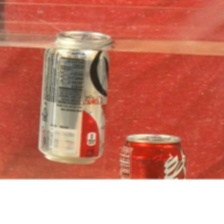can: (26, 26, 118, 167), (116, 130, 190, 179)
